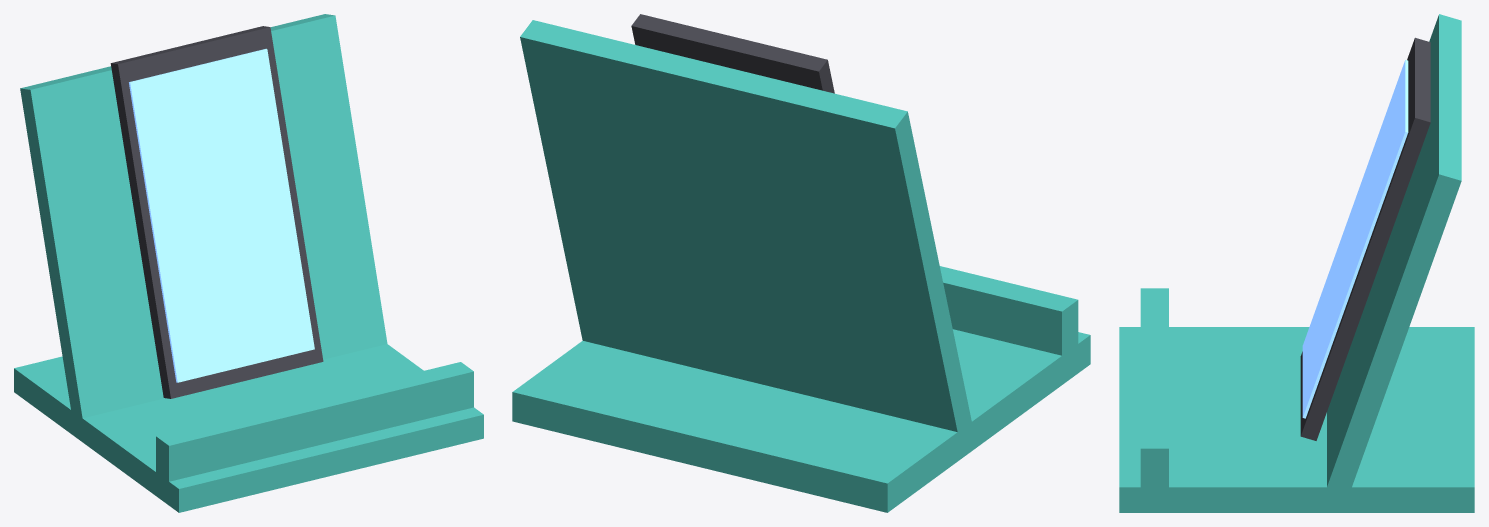
Rendered from phone-stand.glb.
3 renders of one model, left to right at view 1: azimuth 30°, elevation 25°; view 2: azimuth 150°, elevation 25°; view 3: azimuth 270°, elevation 25°, orthographic. The views are drawn at different scales.
Size of the model in its own units: 0.8 by 0.8263 by 0.75.
